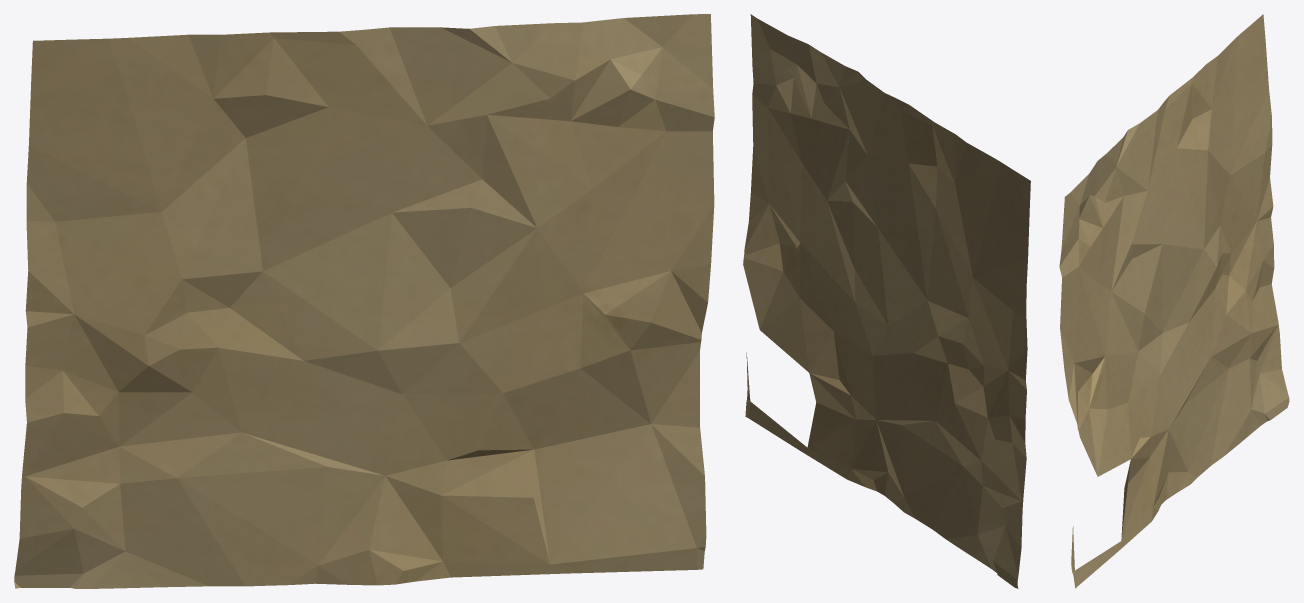
3 renders of one model, left to right at view 1: azimuth 30°, elevation 25°; view 2: azimuth 150°, elevation 25°; view 3: azimuth 270°, elevation 25°, orthographic. The views are drawn at different scales.
Bounding box in the file's own units: 0.8374 × 0.8374 × 0.4453.
3 materials, 3 textured.
